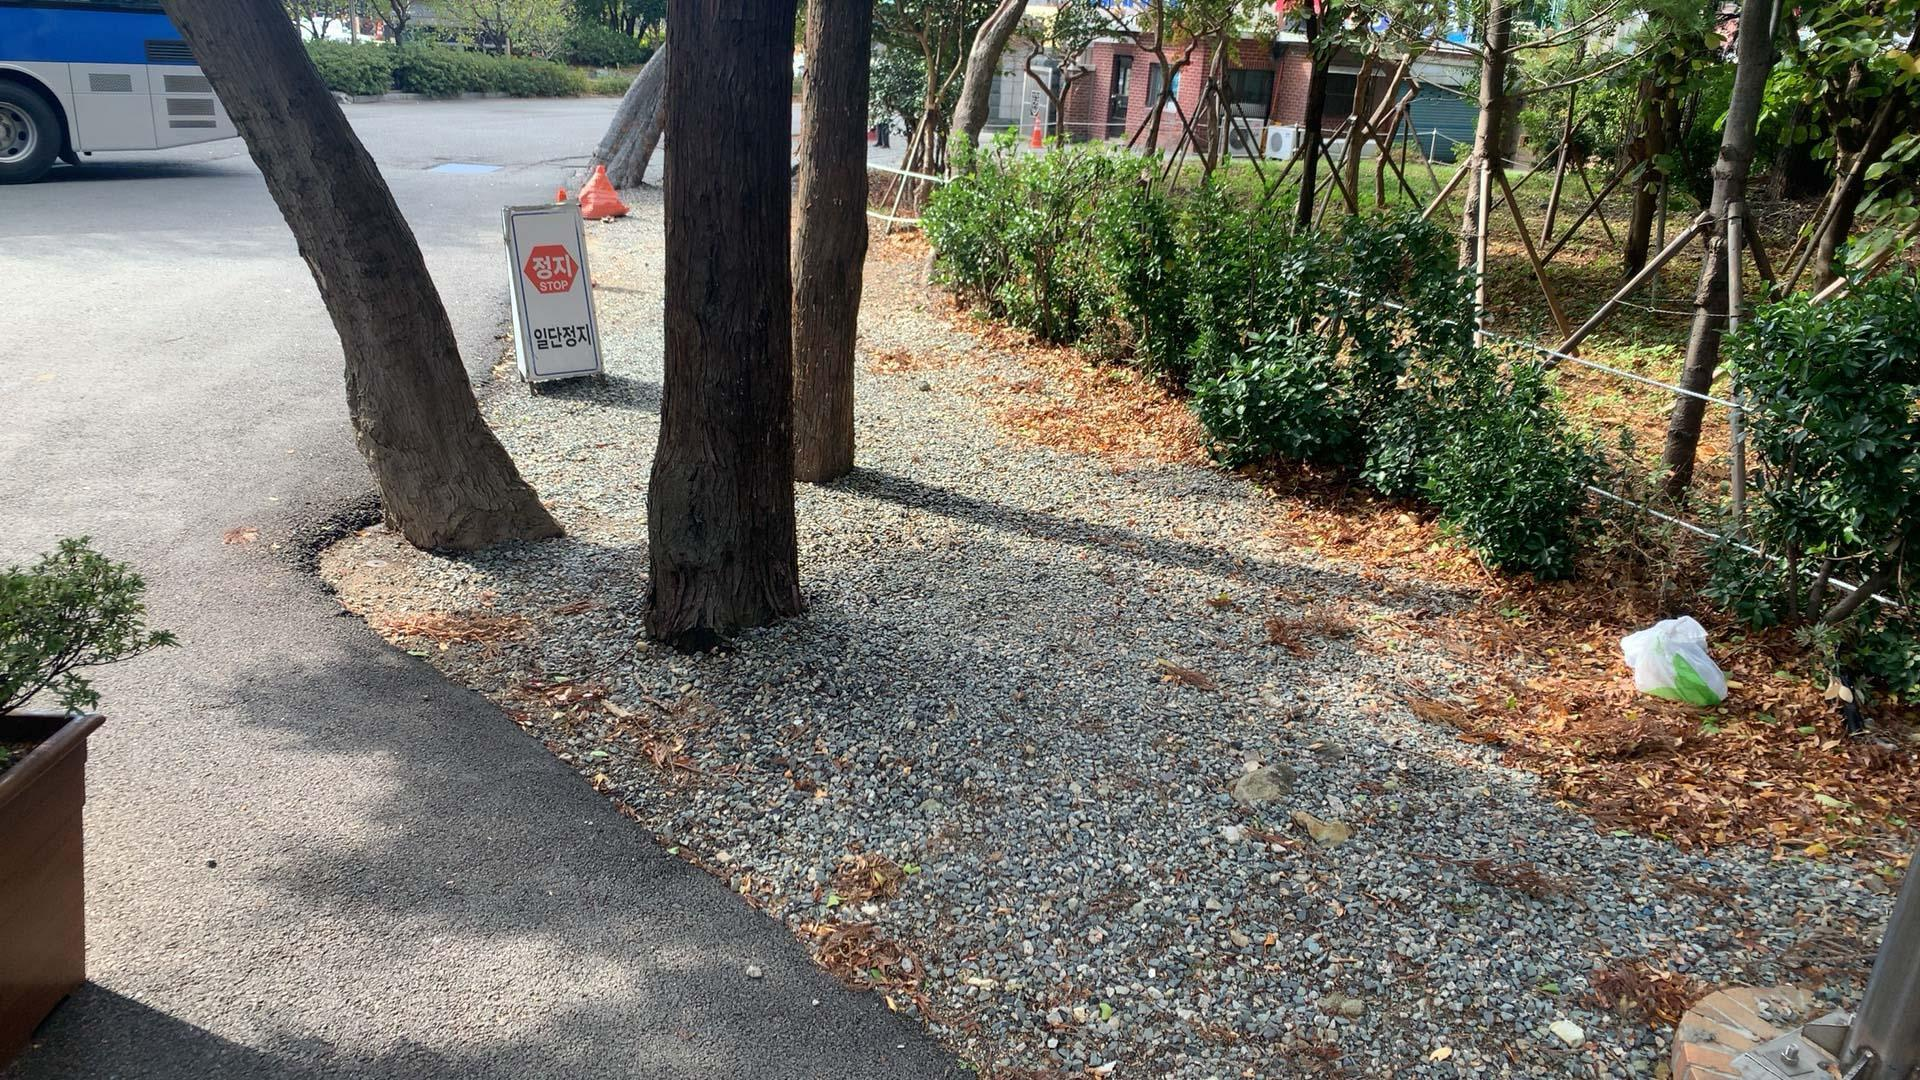white_bag: (1615, 609, 1734, 710)
